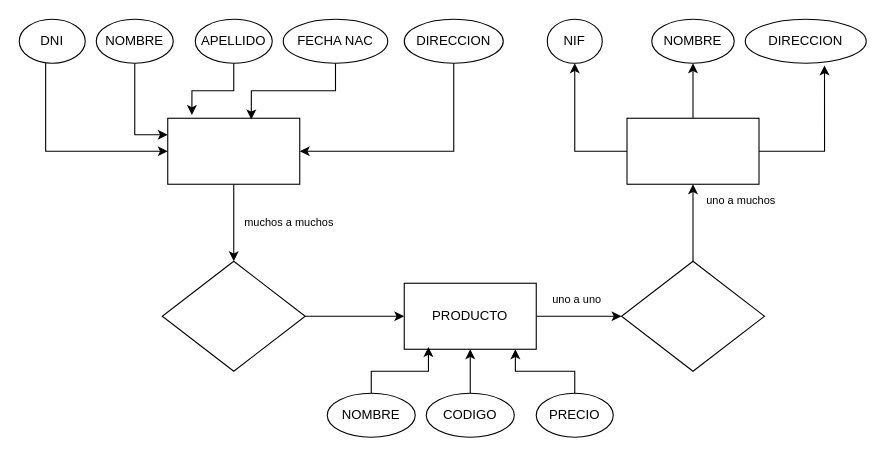
The diagram is 886 pixels wide and 457 high, and some of its shapes have lost their labels. The centre of each missing label's shape, as x and y in pixels:
"CLIENTES" goes at pixel 233 150.
"COMPRAS" goes at pixel 233 315.
"PROVEEDORES" goes at pixel 692 150.
"SUMINISTROS" goes at pixel 692 315.
